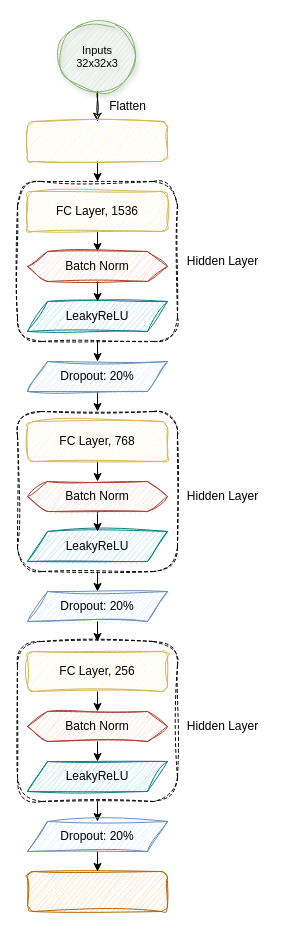
This 285x929 diagram has some shape labels left out. Here are the shapes that lost their labels. From the top down, the centre of each, then its label:
At (97,141): "Input FC Layer, 3072".
At (97,891): "Output Layer, 100".
